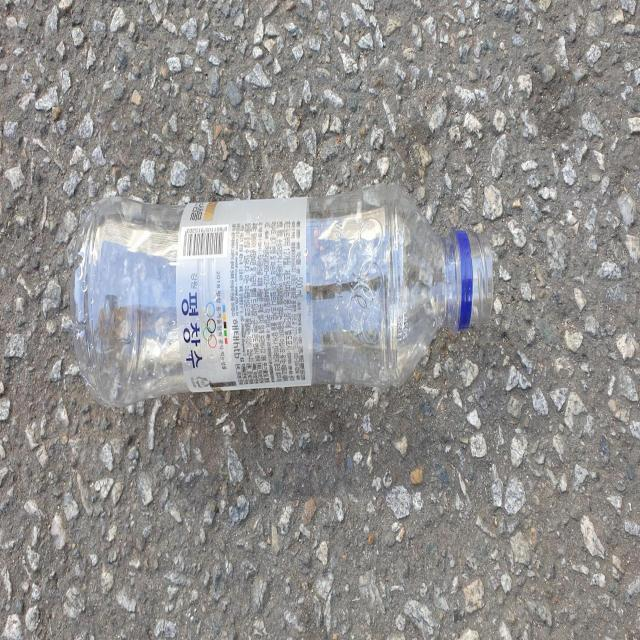plastic: (70, 184, 494, 406)
